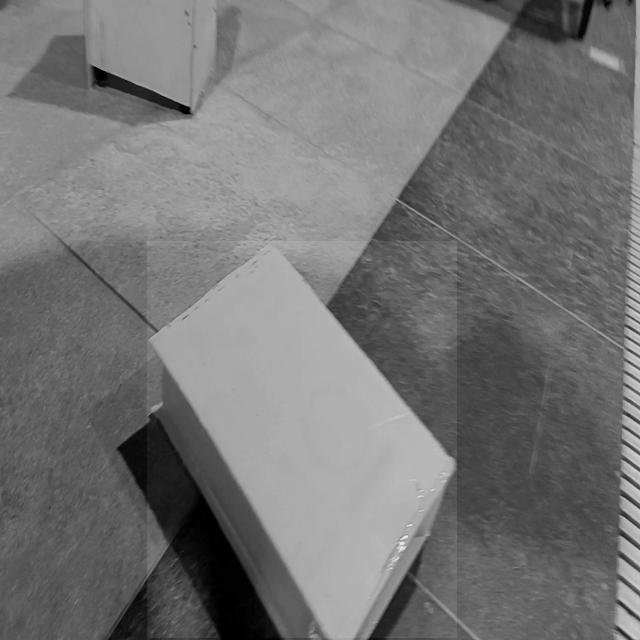Cube: (84, 0, 220, 115)
Cuboid: (147, 241, 457, 638)
